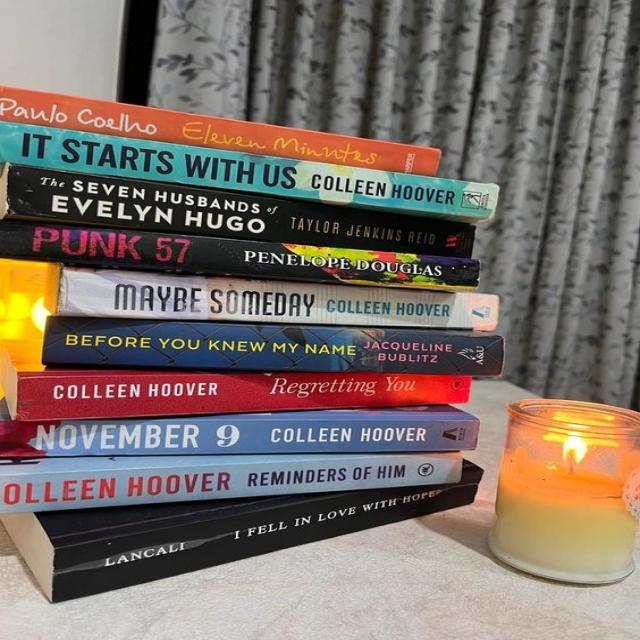book: (53, 472, 484, 603), (0, 121, 498, 220), (8, 164, 475, 257), (0, 86, 440, 176), (0, 221, 481, 290), (42, 315, 503, 377), (54, 265, 498, 328), (2, 455, 461, 513), (17, 375, 470, 422), (0, 420, 482, 458)
